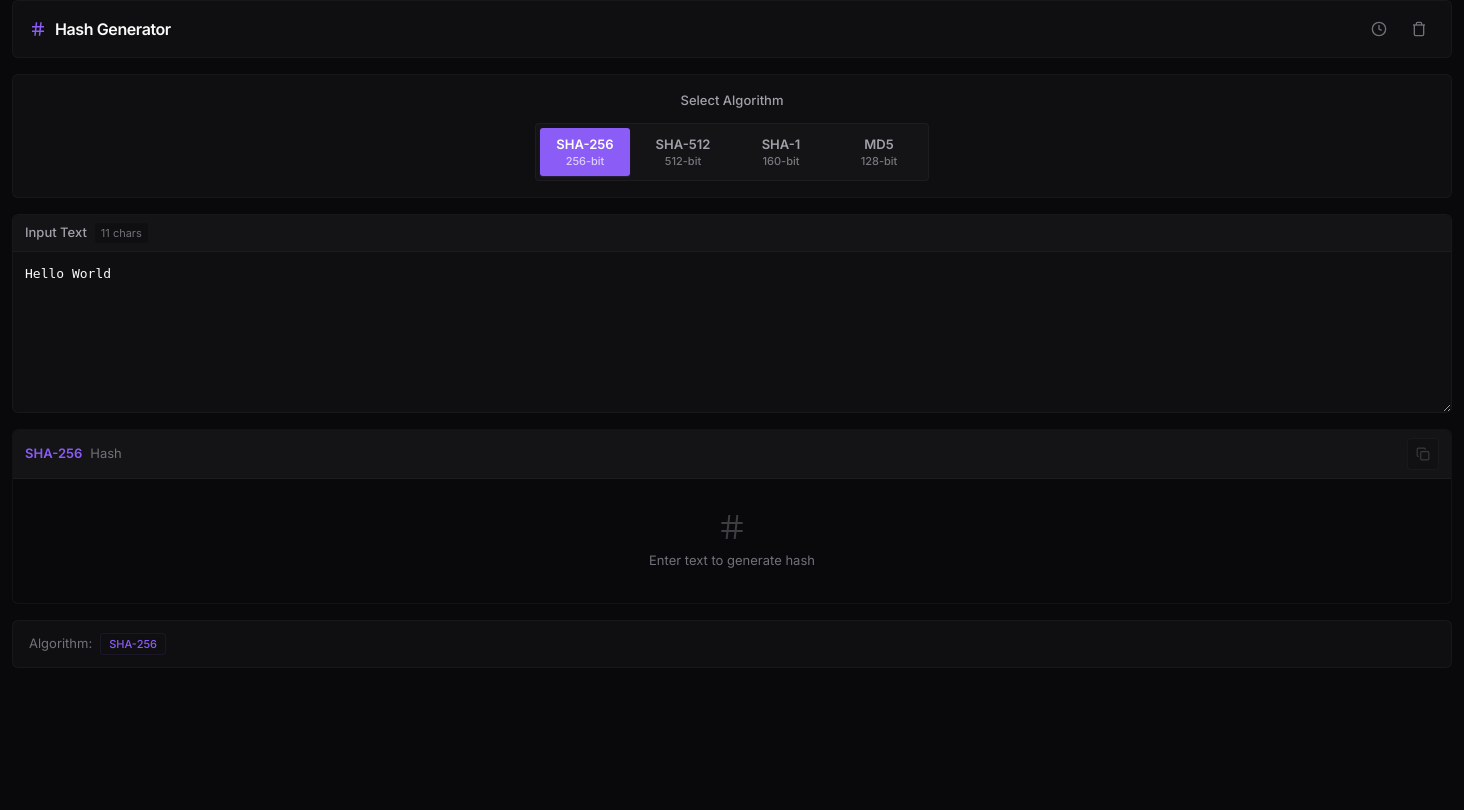
Test: HashTool › should show empty state for empty input
The width and height of the screenshot is (1464, 810).
Replace the text in the text box with placeholder "Enter text to hash..." with "something": (732, 332) [13, 252, 1451, 412]
Wait 150 ms
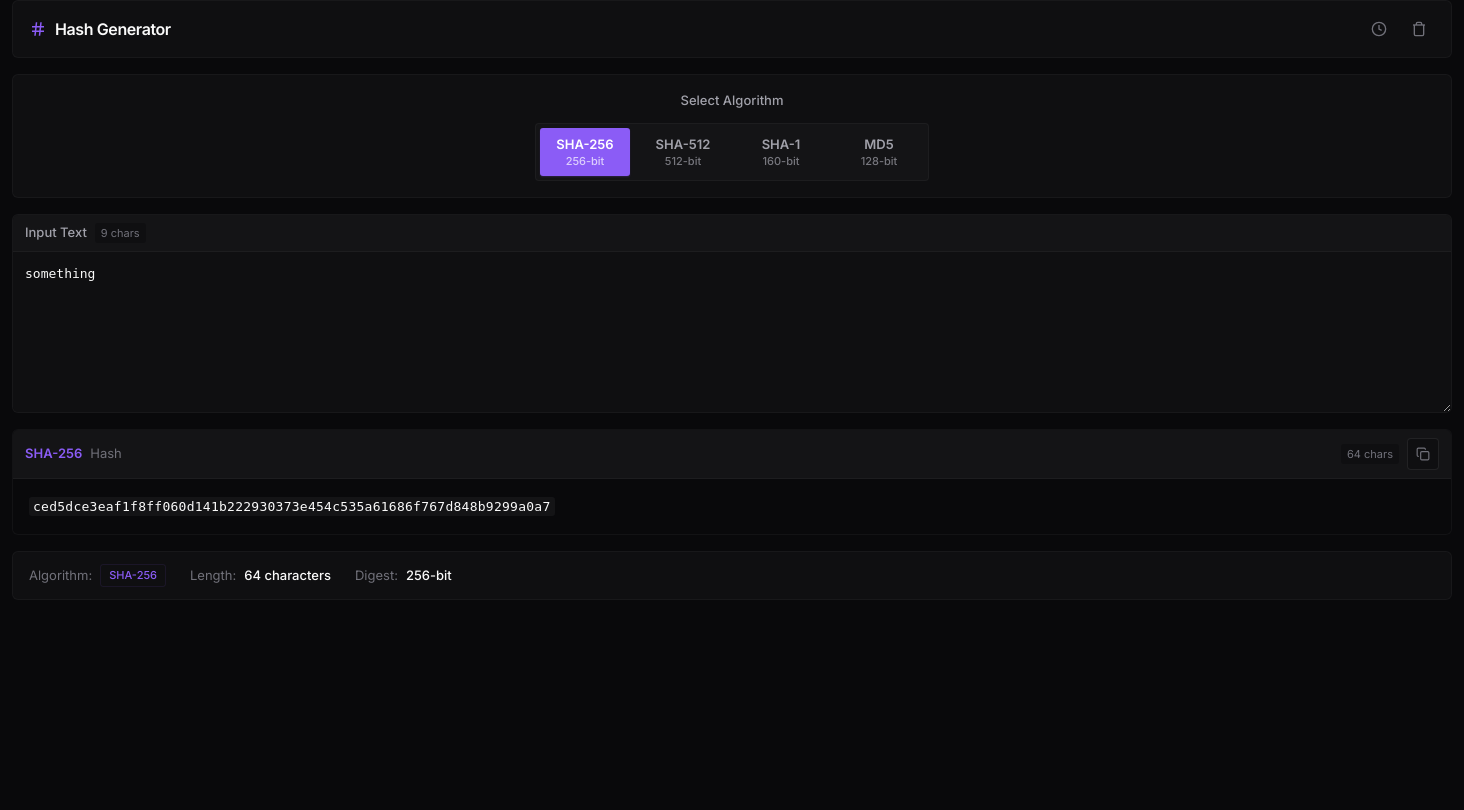
Clear the text box with placeholder "Enter text to hash...": (732, 332) [13, 252, 1451, 412]
Wait 150 ms
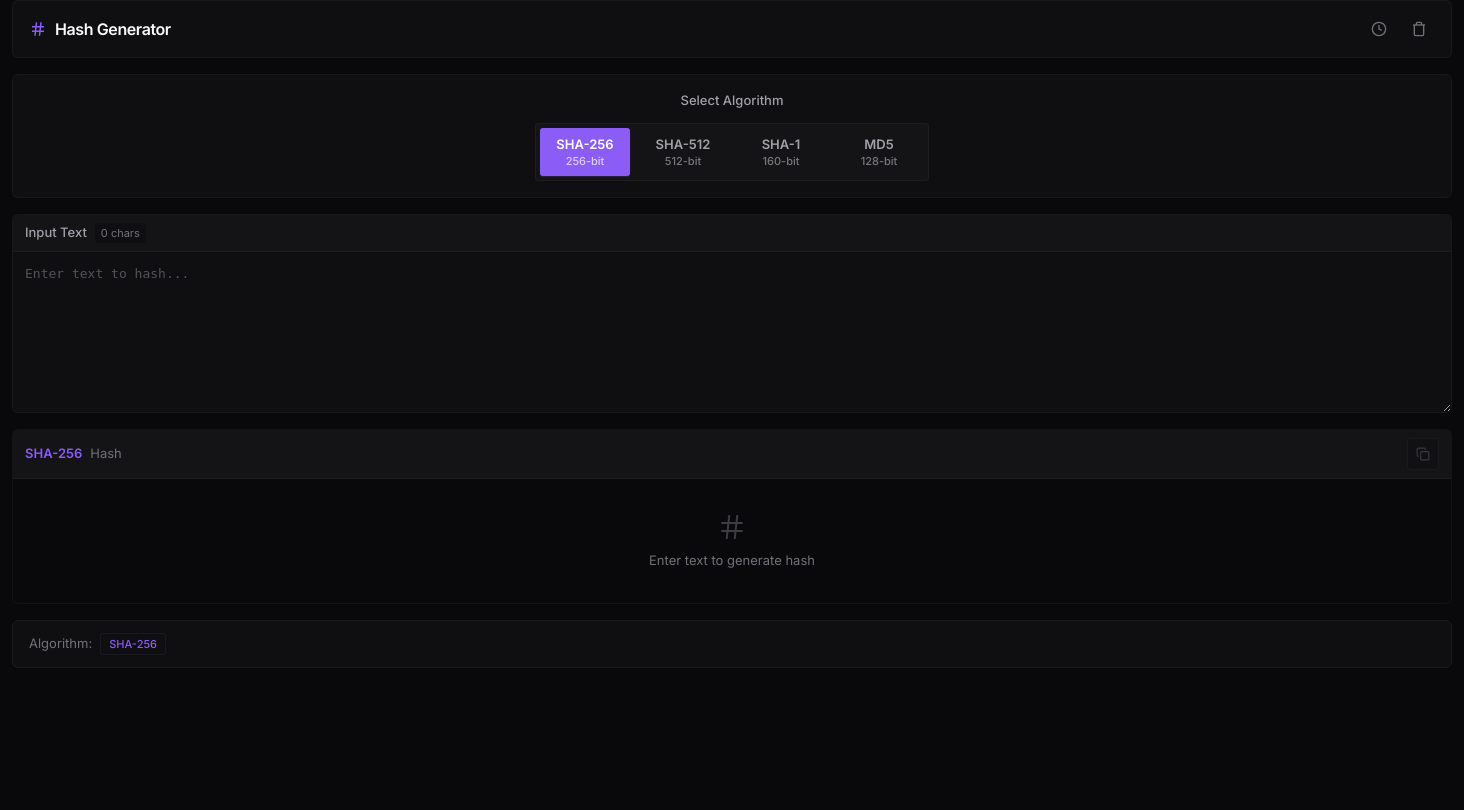
Check: the element with class "empty-state" is shown, box [649, 511, 815, 568]
